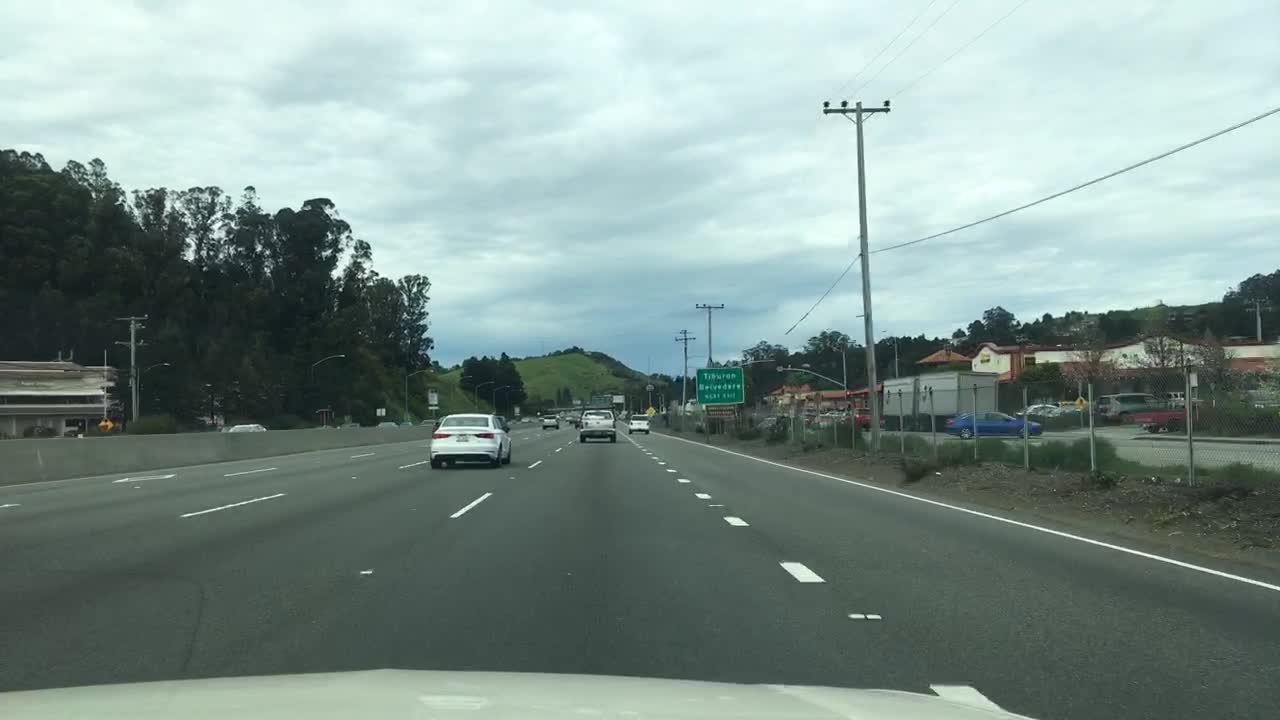bus: (1099, 388, 1164, 424)
car: (427, 413, 513, 469), (942, 408, 1045, 441), (577, 408, 615, 444), (1018, 402, 1070, 421), (852, 407, 880, 431), (627, 411, 652, 436), (1051, 399, 1098, 411), (1164, 392, 1206, 404), (813, 412, 837, 431), (22, 424, 57, 437), (429, 412, 444, 437), (228, 423, 267, 432), (794, 414, 814, 431), (542, 414, 560, 429), (497, 413, 509, 432), (842, 411, 852, 432), (338, 421, 357, 429), (422, 417, 437, 426), (567, 416, 580, 426), (377, 421, 394, 427), (403, 421, 414, 424)
traffic light: (842, 387, 854, 407)
traffic sign: (695, 364, 745, 404), (702, 404, 737, 422), (97, 417, 113, 432), (428, 391, 439, 412), (1071, 396, 1088, 409), (612, 392, 625, 406), (373, 407, 386, 417), (645, 407, 655, 418)
truck: (1133, 397, 1206, 432)
